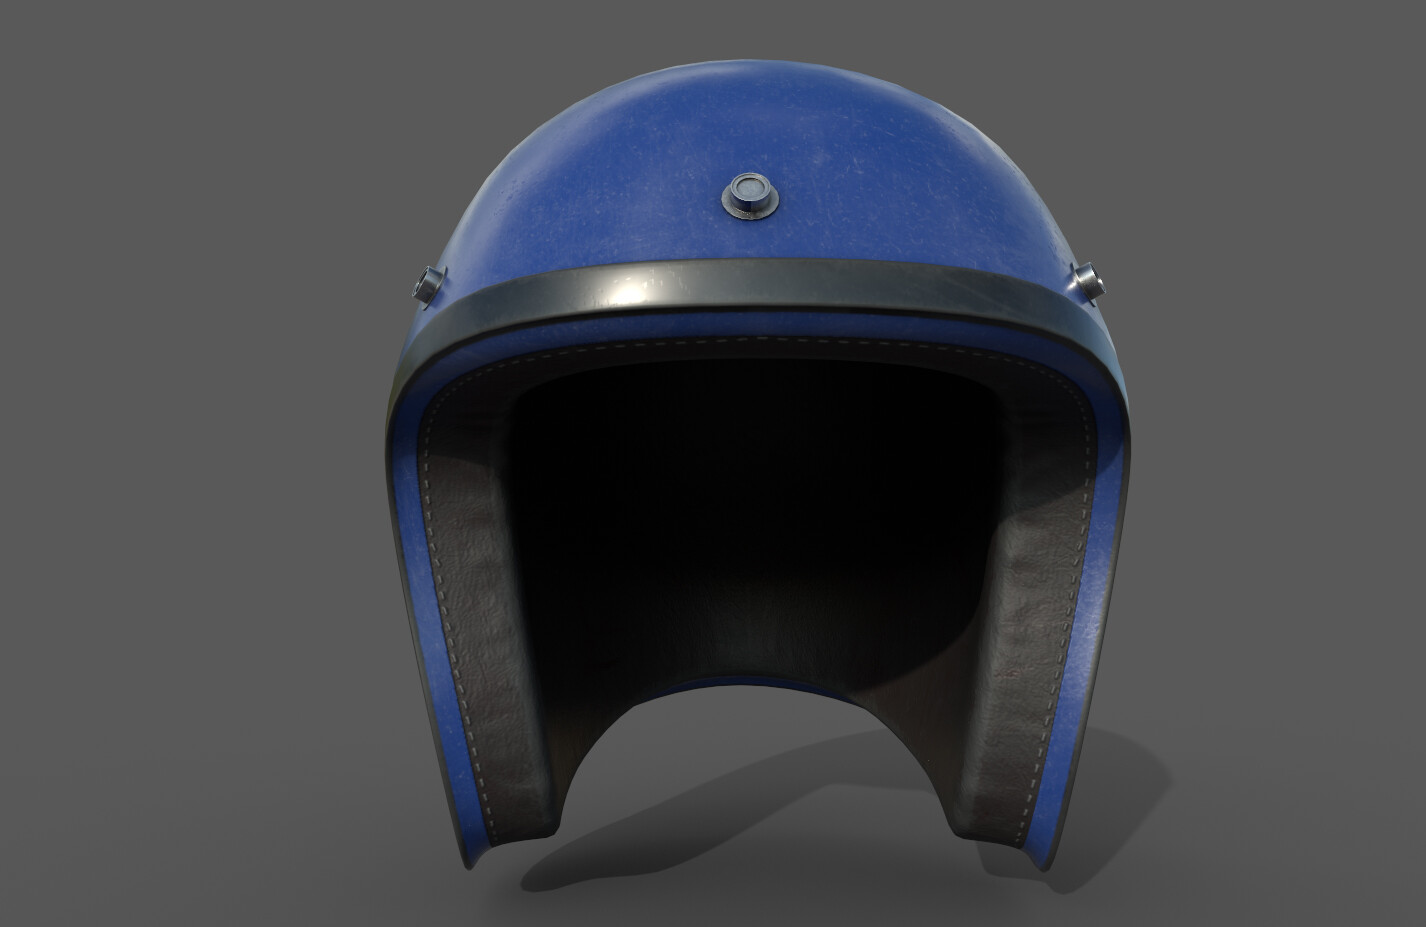with_helmet: (389, 60, 1136, 864)
